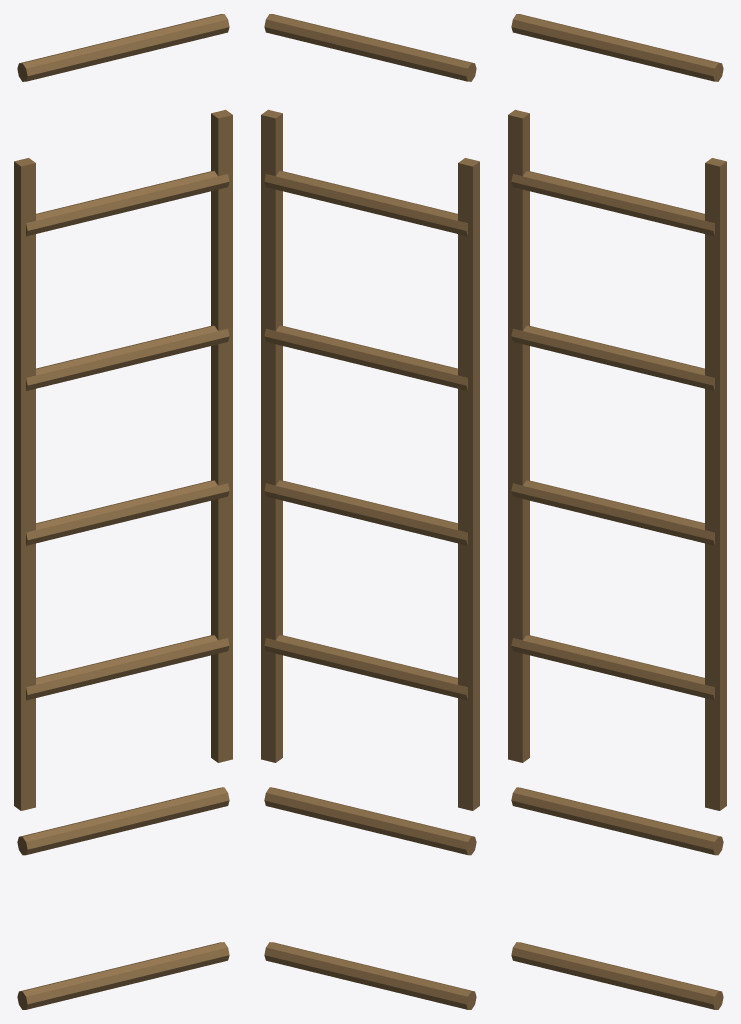
Rendered from ladder.glb.
3 views of the same model, side by side, from view 1: azimuth 30°, elevation 25°; view 2: azimuth 150°, elevation 25°; view 3: azimuth 330°, elevation 25° (orthographic).
Parts seen in each view (by area): view 1: ladder; view 2: ladder; view 3: ladder.
Boxes of the visible parts, x1=… form: ladder: x1=14, y1=14, x2=232, y2=1009; ladder: x1=261, y1=14, x2=479, y2=1009; ladder: x1=508, y1=14, x2=726, y2=1009.
Size of the model in its own units: 0.43 by 1.84 by 0.036.
